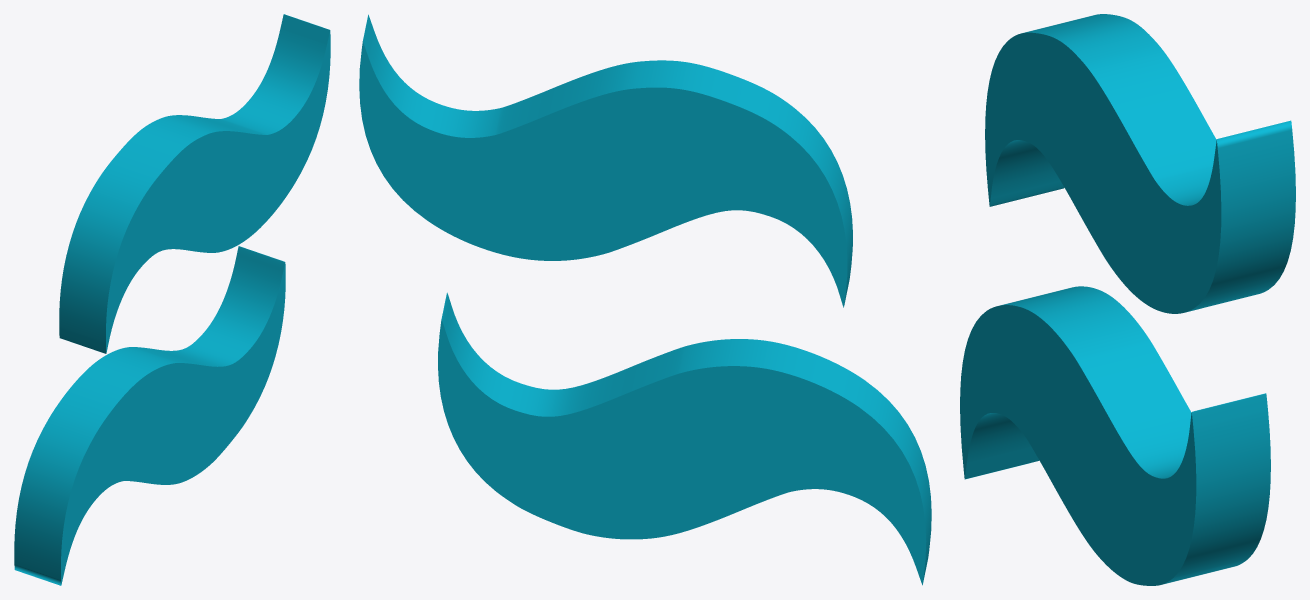
The model's file is tailwind.glb.
3 views of the same model, side by side, from view 1: azimuth 30°, elevation 25°; view 2: azimuth 150°, elevation 25°; view 3: azimuth 270°, elevation 25° (orthographic). The views are drawn at different scales.
Parts seen in each view (by area): view 1: path3739; view 2: path3739; view 3: path3739.
Boxes of the visible parts, left/top/right/bottom form: path3739: left=14, top=14, right=330, bottom=585; path3739: left=359, top=14, right=931, bottom=585; path3739: left=960, top=14, right=1295, bottom=585.
Size of the model in its own units: 2.36 by 2.43 by 1.24.
